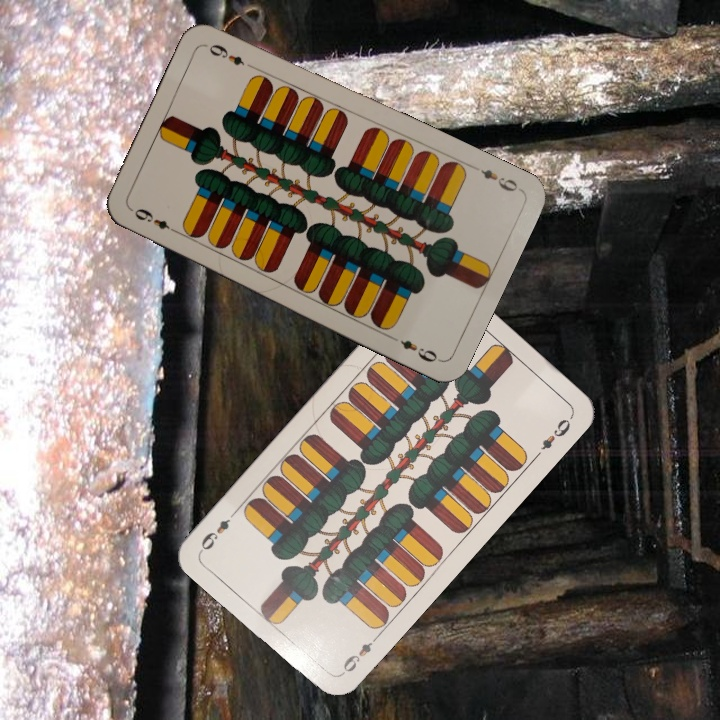E9: (337, 631, 382, 678), (126, 204, 182, 237), (476, 165, 521, 195)
